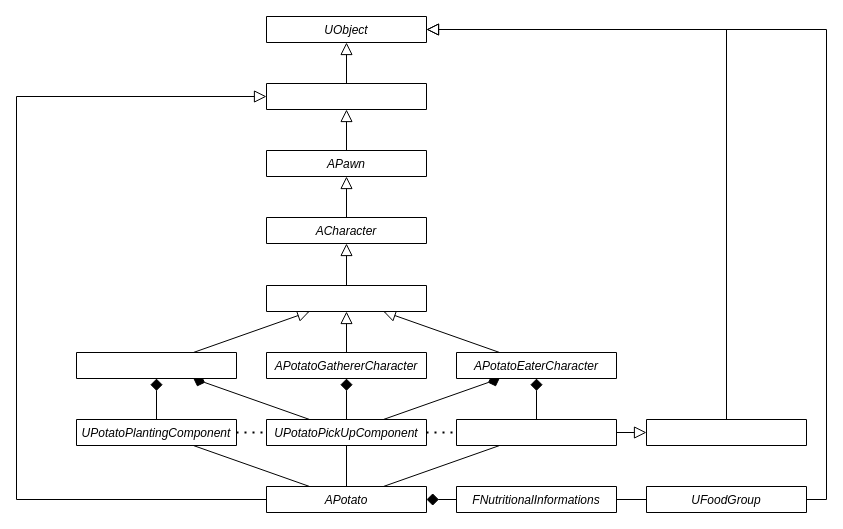
Image size: 843x529. Some labels were removed from this diagram. The box of each missing label's shape, as (x1, y1, x2, y2) in pixels:
AActor: (266, 82, 426, 110)
APotatoBaseCharacter: (266, 284, 426, 312)
APotatoPlanterCharacter: (76, 352, 236, 378)
UActorComponent: (646, 418, 806, 446)
UPotatoEatingComponent: (456, 418, 616, 446)
